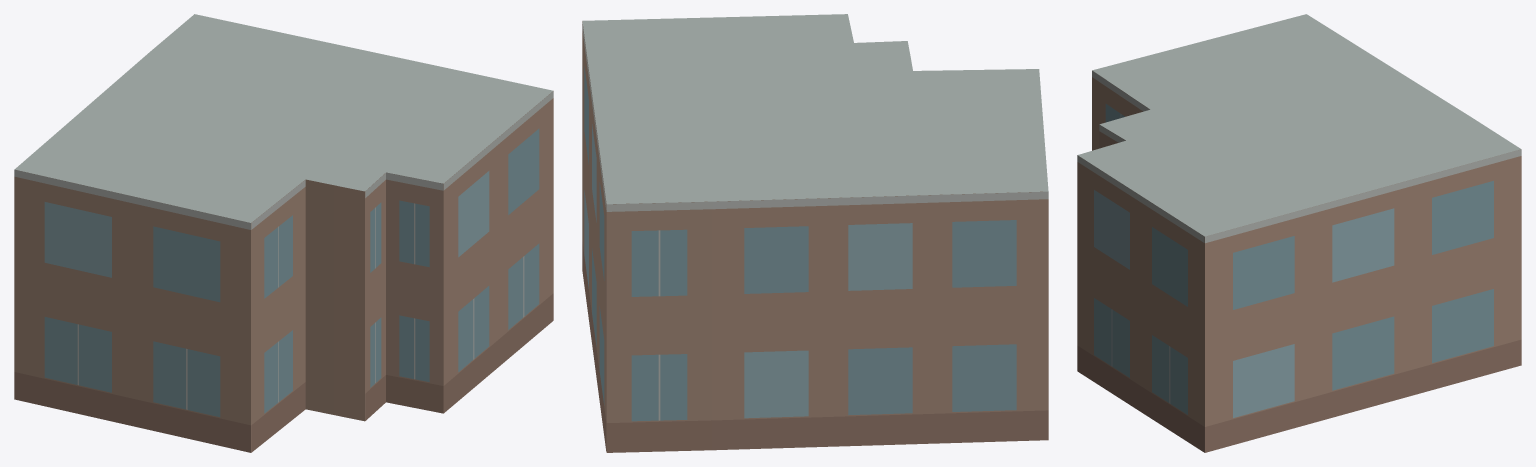
File: survey-upis-32616192.glb
3 renders of one model, left to right at view 1: azimuth 30°, elevation 25°; view 2: azimuth 150°, elevation 25°; view 3: azimuth 270°, elevation 25°, orthographic. The views are drawn at different scales.
Visible parts, largest first — view 1: survey-upis-32616192.tmp; view 2: survey-upis-32616192.tmp; view 3: survey-upis-32616192.tmp.
Part boxes in pixels (box(x1,y1,x2,y2)): survey-upis-32616192.tmp: box(14, 14, 553, 452); survey-upis-32616192.tmp: box(582, 14, 1048, 452); survey-upis-32616192.tmp: box(1077, 14, 1521, 452).
Bounding box in the file's own units: 17.46 × 7.9 × 14.71.
